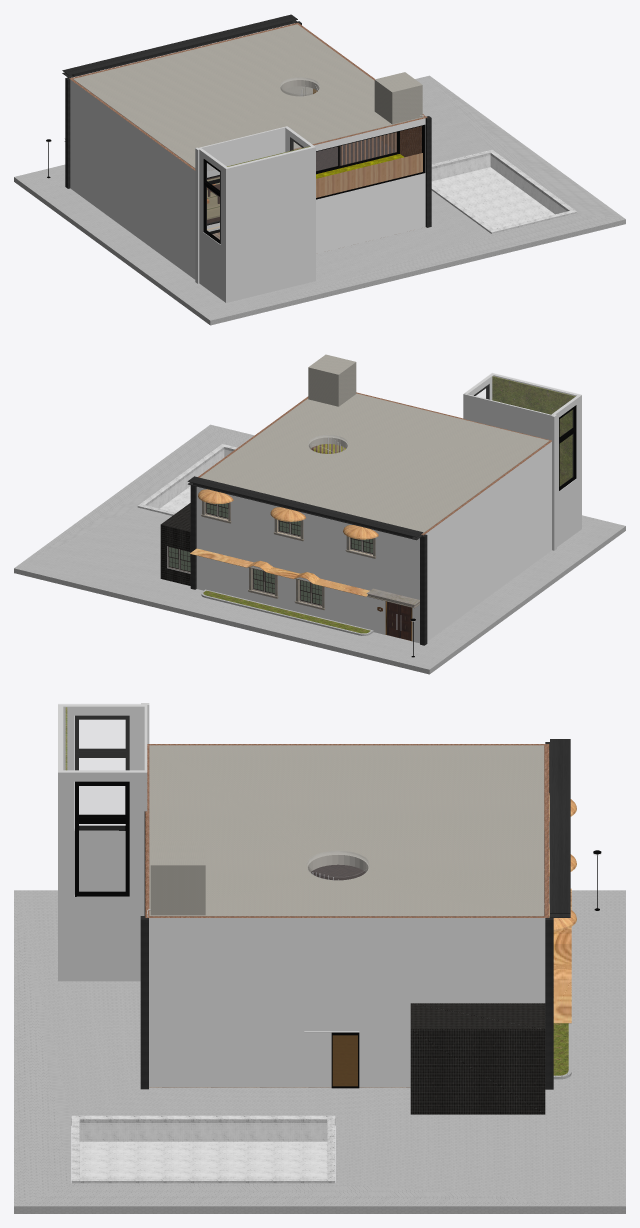
3 views of the same model, one above another, from view 1: azimuth 30°, elevation 25°; view 2: azimuth 150°, elevation 25°; view 3: azimuth 270°, elevation 25° (orthographic). The views are drawn at different scales.
Visible parts, largest first — view 1: base, ceiling.002, wall_outside_2, wall_plant, pool_side, floor_pool_water, Cube.139, Cube.355, water_tower, balcony_big_w_2_wall, Cube.326, livingroom_big_w_2_wall.002 (+8 smaller); view 2: wall_outside_2, ceiling.002, base, wall_plant, Cube.047, Cube.139, Cube.326, water_tower, Cube.355, pool_side, drying_wall, Cube.041 (+9 smaller); view 3: base, ceiling.002, wall_outside_2, pool_side, wall_plant, drying_wall, floor_pool_water, Cube.355, water_tower, Cube.139, livingroom_w.002, livingroom_w.003 (+10 smaller).
Part boxes in pixels (x1,y1,x2,y2): base: (14, 75, 625, 325); ceiling.002: (73, 24, 423, 168); wall_outside_2: (69, 23, 427, 279); wall_plant: (199, 127, 315, 302); pool_side: (431, 149, 576, 233); floor_pool_water: (432, 155, 566, 228); Cube.139: (62, 14, 297, 78); Cube.355: (202, 127, 310, 166); water_tower: (374, 72, 422, 124); balcony_big_w_2_wall: (316, 153, 422, 197); Cube.326: (198, 126, 287, 171); livingroom_big_w_2_wall.002: (341, 133, 396, 165); wall_outside_2: (196, 392, 551, 643); ceiling.002: (200, 393, 549, 533); base: (14, 424, 625, 674); wall_plant: (464, 373, 581, 546); Cube.047: (492, 376, 575, 486); Cube.139: (187, 476, 423, 540); Cube.326: (463, 393, 553, 440); water_tower: (308, 354, 356, 406); Cube.355: (468, 375, 576, 413); pool_side: (137, 444, 237, 515); drying_wall: (160, 503, 190, 585); Cube.041: (190, 548, 369, 596); base: (14, 890, 625, 1213); ceiling.002: (149, 745, 544, 916); wall_outside_2: (145, 744, 549, 1087); pool_side: (71, 1115, 335, 1183); wall_plant: (58, 704, 144, 981); drying_wall: (410, 1003, 545, 1114); floor_pool_water: (80, 1123, 326, 1176); Cube.355: (63, 707, 143, 769); water_tower: (150, 842, 205, 915); Cube.139: (550, 739, 570, 917); livingroom_w.002: (80, 824, 124, 890); livingroom_w.003: (80, 758, 124, 824).
Bounding box in the file's own units: 27.19 × 9.72 × 22.26.
Materials: 176 (102 with a texture image).
